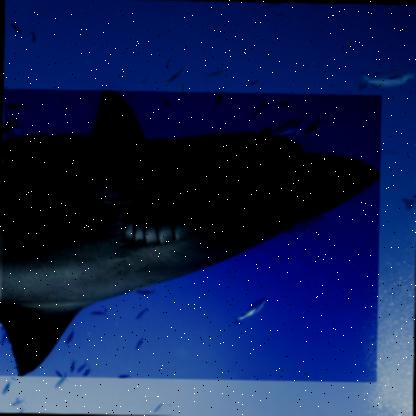bulldog-shark: (0, 86, 381, 382)
